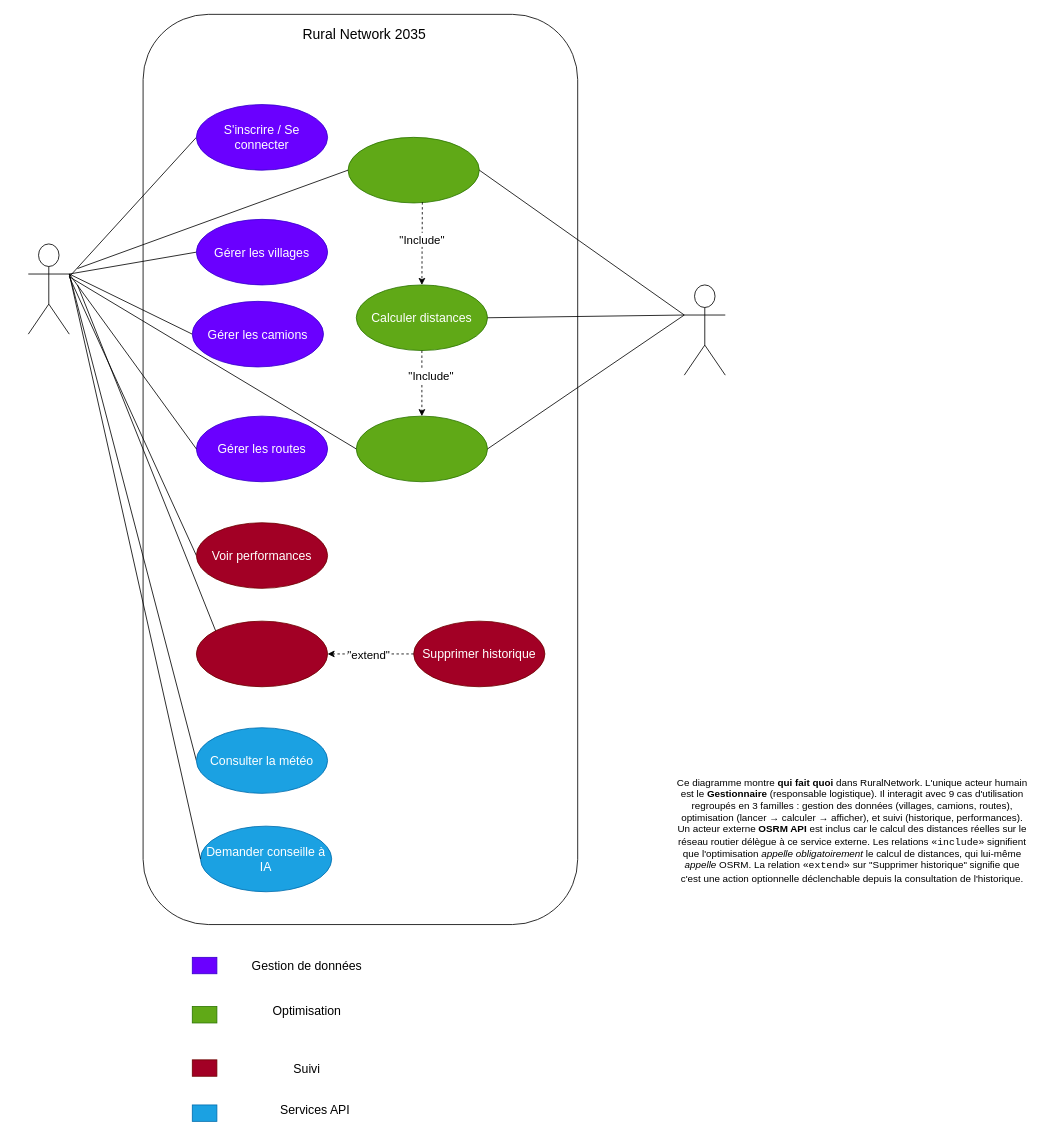
Image size: 1043x1136. Some labels were removed from this diagram. The centre of each missing label's shape, as x and y in pixels:
"system" OSRM API: (704,329)
Afficher tournées: (421,448)
Consulter historique: (262,653)
Gestionnaire: (48,288)
Lancer Optimisation: (413,170)
